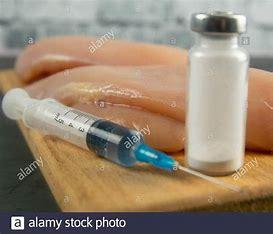Syringe: (2, 84, 270, 186), (176, 7, 255, 176)
